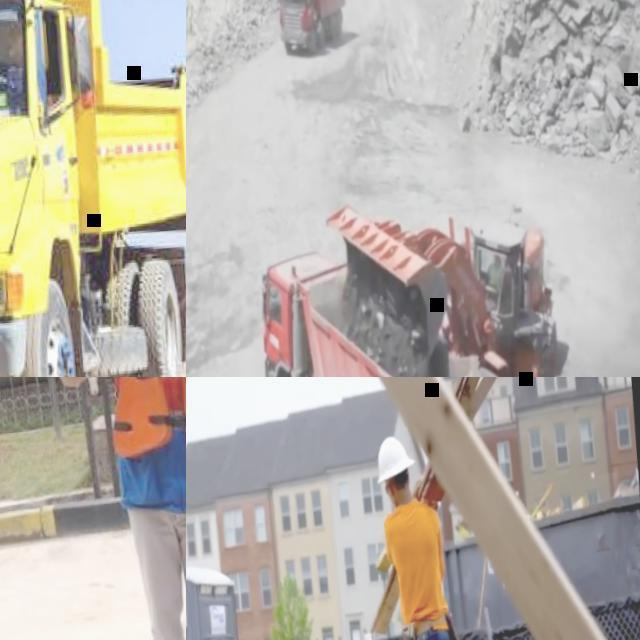helmet: (374, 434, 420, 484)
machinery: (0, 0, 186, 377), (324, 185, 570, 377), (256, 231, 501, 377), (274, 0, 352, 57)
no_vest: (383, 500, 452, 632)
person: (0, 377, 186, 640), (371, 430, 476, 640)
vest: (96, 377, 186, 458)
